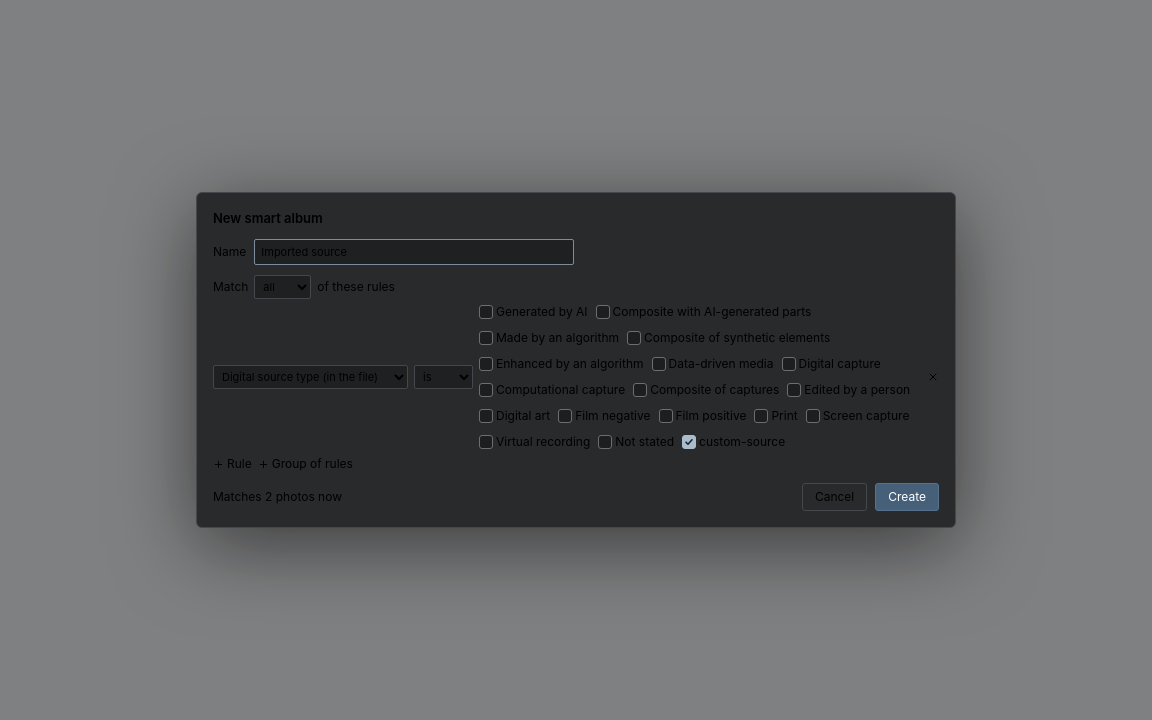
Test: shows an unfamiliar source type selected from the Library so it can be removed
Step 1. Click the checkbox labelled "custom-source" → (689, 442), box [682,435,696,449]
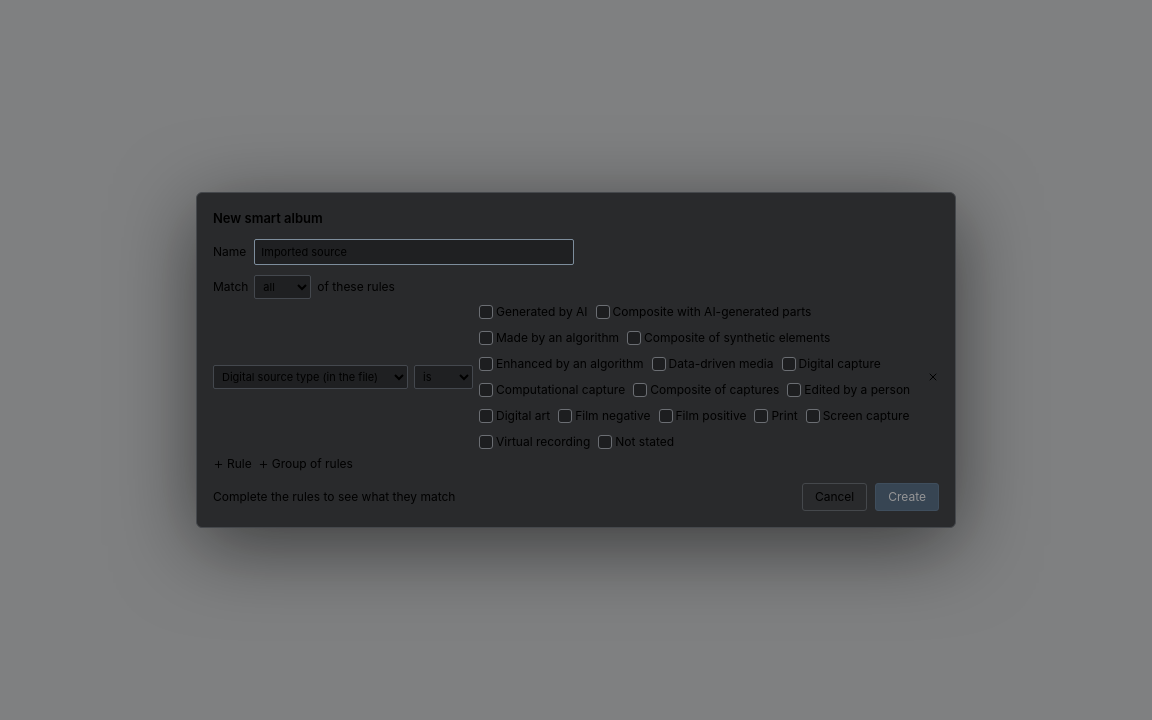
Now the button "Create" is disabled, box [875,483,939,511]
